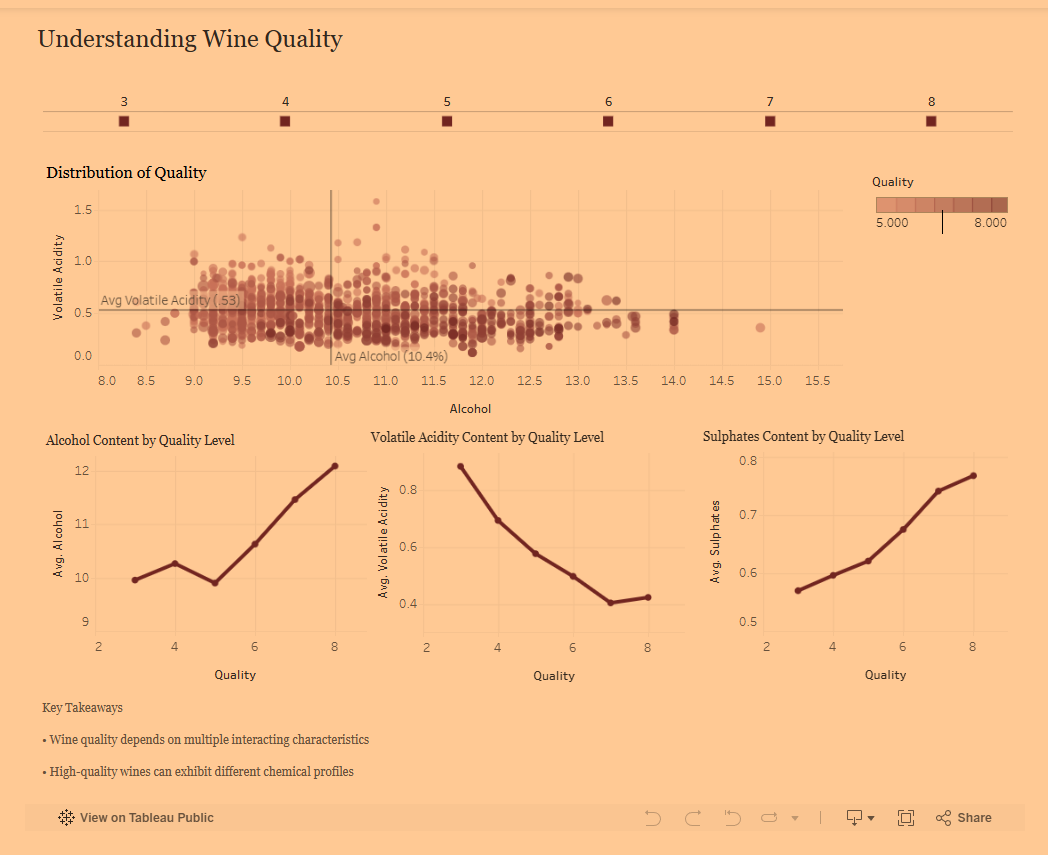

The page's visual inventory and layout, read from the dashboard file:
{"tool":"tableau","page":{"name":"Dashboard 1","canvas":[1000,800],"ordinal":0},"visuals":[{"type":"title","box":[8,8,984,51]},{"type":"worksheet","title":"Quality Selector","mark":"Square","cols":["quality"],"box":[18,72,970,62]},{"type":"worksheet","title":"Wine Quality Is Not Driven by a Single Variable (2)","mark":"Circle","rows":["volatile acidity"],"cols":["alcohol"],"box":[17,152,801,266]},{"type":"legend","title":"Wine Quality Is Not Driven by a Single Variable (2)","param":"[federated.1qytdwq14478e41fypg8a0z1003m].[avg:quality:qk]","box":[847,169,140,88]},{"type":"worksheet","title":"Sulphates Content by Quality Level","mark":"Line","rows":["Calculation_1302438782464003"],"cols":["quality"],"box":[674,418,309,266]},{"type":"worksheet","title":"Volatile Acidity Content by Quality Level","mark":"Line","rows":["Calculation_1302438782365698"],"cols":["quality"],"box":[342,419,318,266]},{"type":"worksheet","title":"Alcohol Content by Quality Level","mark":"Line","rows":["Calculation_1302438782230529"],"cols":["quality"],"box":[17,422,333,262]},{"type":"text","box":[17,689,958,95]}]}

Visuals, with their boxes on the page's 1000x800 design canvas (x1, y1, x2, y2). These are canvas units, not pixel positions in the 1048x855 screenshot, which may show the page scaled, cropped or inside an application window:
title: rect(8, 8, 992, 59)
"Quality Selector" worksheet (Square marks): rect(18, 72, 988, 134)
"Wine Quality Is Not Driven by a Single Variable (2)" worksheet (Circle marks): rect(17, 152, 818, 418)
"Wine Quality Is Not Driven by a Single Variable (2)" legend: rect(847, 169, 987, 257)
"Sulphates Content by Quality Level" worksheet (Line marks): rect(674, 418, 983, 684)
"Volatile Acidity Content by Quality Level" worksheet (Line marks): rect(342, 419, 660, 685)
"Alcohol Content by Quality Level" worksheet (Line marks): rect(17, 422, 350, 684)
text: rect(17, 689, 975, 784)
